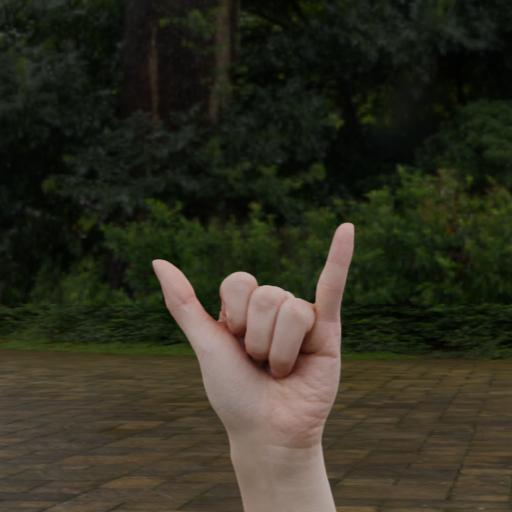Y: (114, 206, 381, 505)
